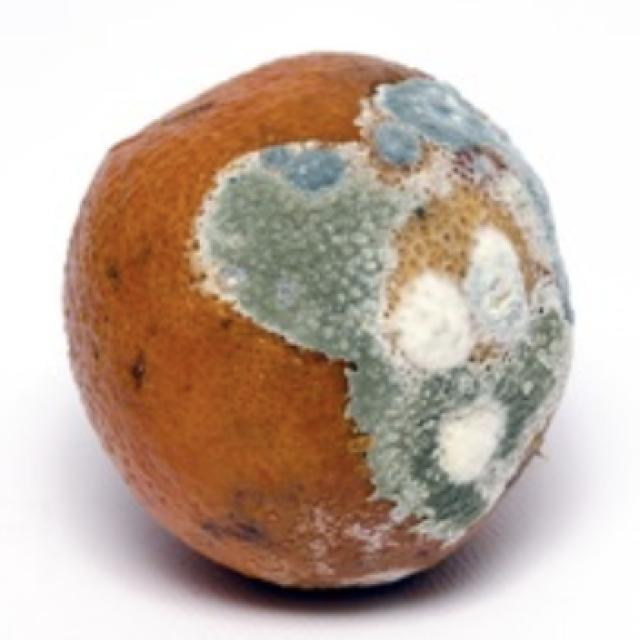sangat-busuk: (64, 53, 572, 585)
